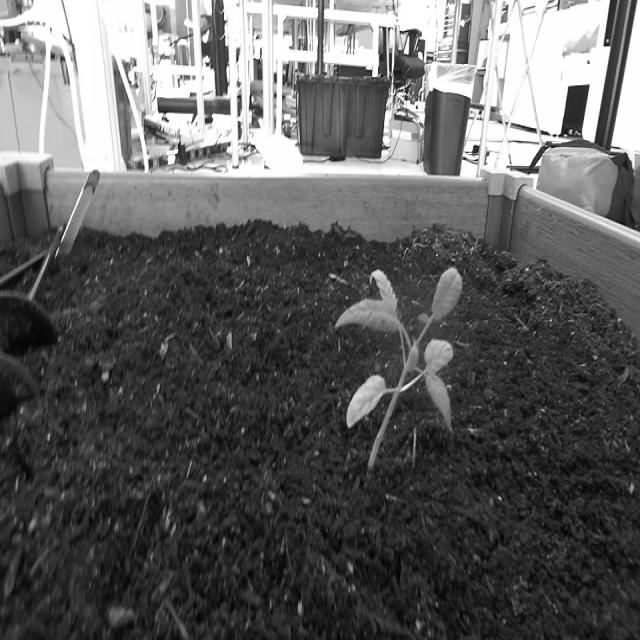Healthy: (333, 256, 468, 490)
